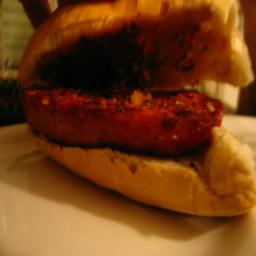hotdog: (18, 0, 256, 220)
